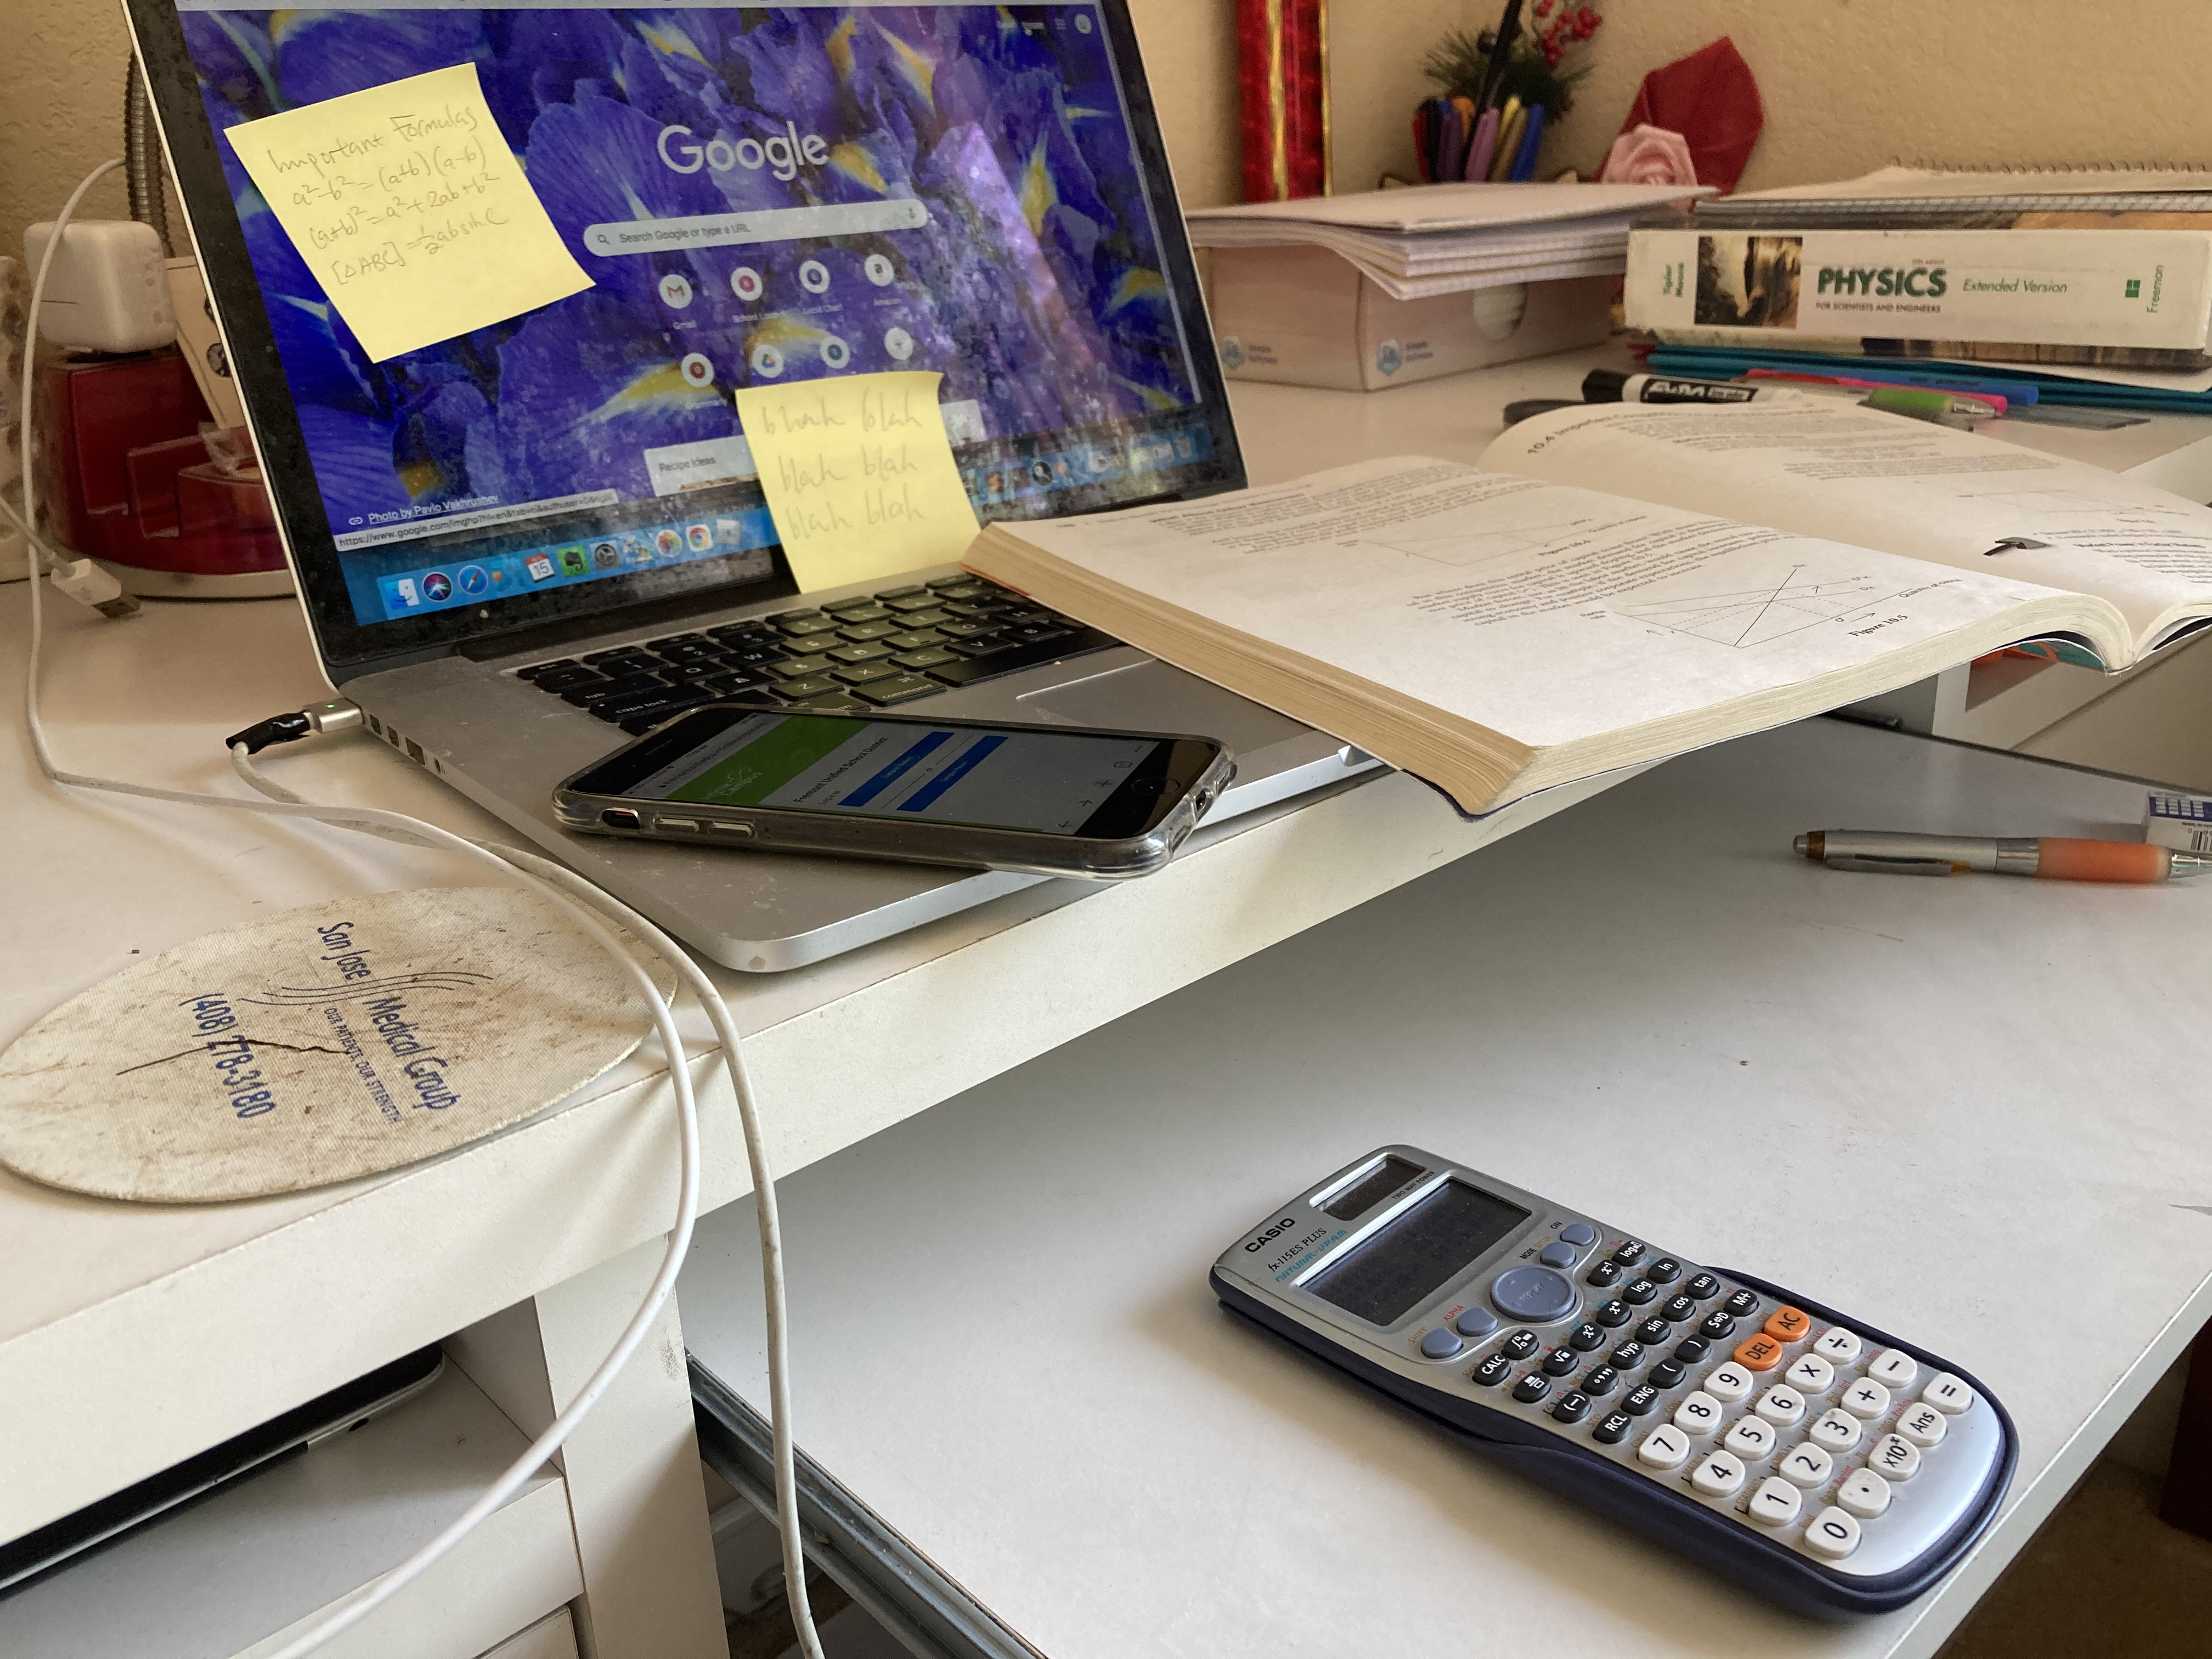Calculator: (1211, 1133, 2020, 1596)
Cell Phone: (550, 701, 1240, 877)
Note: (226, 73, 594, 350), (730, 354, 974, 579)
Open Book: (981, 394, 2212, 807)
